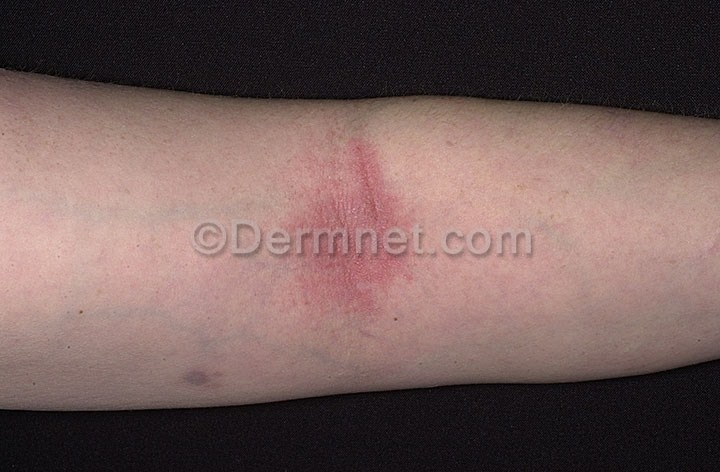Eczema: (266, 122, 438, 347)
